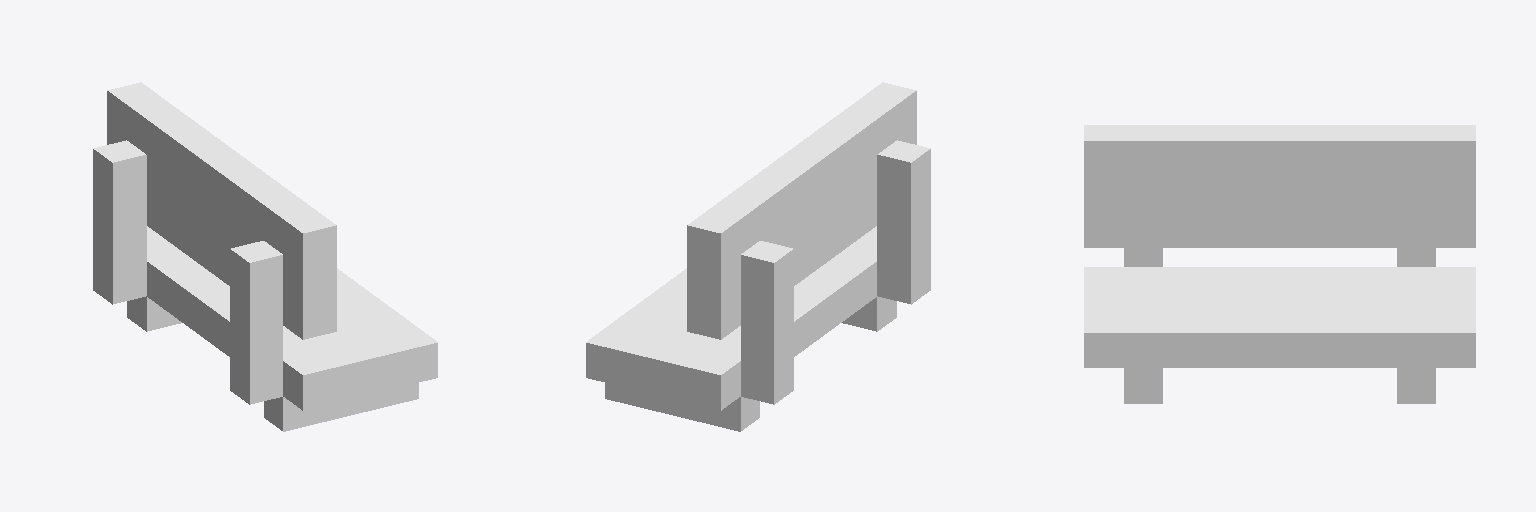
Rendered from PinkBench.obj.
3 views of the same model, side by side, from view 1: azimuth 30°, elevation 25°; view 2: azimuth 150°, elevation 25°; view 3: azimuth 270°, elevation 25° (orthographic).
Bounding box in the file's own units: 5 × 6 × 10.